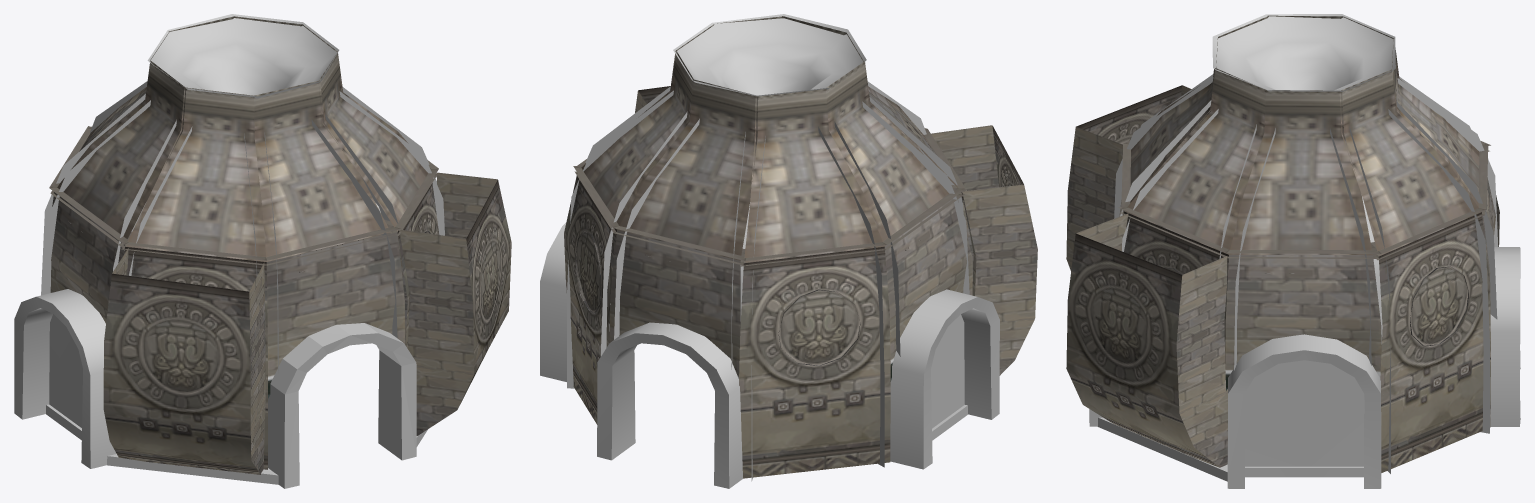
File: DN_tushuguan_tongdao_c001.FBX
3 views of the same model, side by side, from view 1: azimuth 30°, elevation 25°; view 2: azimuth 150°, elevation 25°; view 3: azimuth 270°, elevation 25° (orthographic).
Visible parts, largest first — view 1: DN_tushuguan_tongdao_c1, DN_tushuguan_tongdao_c2, DN_tushuguan_tongdao_c7, DN_tushuguan_tongdao_c8, DN_tushuguan_tongdao_c6, DN_tushuguan_tongdao_c3, DN_tushuguan_tongdao_c5, DN_tushuguan_tongdao_c4; view 2: DN_tushuguan_tongdao_c1, DN_tushuguan_tongdao_c2, DN_tushuguan_tongdao_c7; view 3: DN_tushuguan_tongdao_c1, DN_tushuguan_tongdao_c2, DN_tushuguan_tongdao_c8, DN_tushuguan_tongdao_c7, DN_tushuguan_tongdao_c6, DN_tushuguan_tongdao_c5, DN_tushuguan_tongdao_c4.
Boxes of the visible parts, x1,y1,x2,y2 form: DN_tushuguan_tongdao_c1: (49,16,438,323); DN_tushuguan_tongdao_c2: (14,14,444,468); DN_tushuguan_tongdao_c7: (103,248,265,474); DN_tushuguan_tongdao_c8: (396,172,511,435); DN_tushuguan_tongdao_c6: (124,183,439,469); DN_tushuguan_tongdao_c3: (268,323,416,488); DN_tushuguan_tongdao_c5: (107,429,427,484); DN_tushuguan_tongdao_c4: (254,204,398,373); DN_tushuguan_tongdao_c1: (564,16,972,478); DN_tushuguan_tongdao_c2: (540,14,999,488); DN_tushuguan_tongdao_c7: (931,125,1037,375); DN_tushuguan_tongdao_c1: (1118,15,1499,472); DN_tushuguan_tongdao_c2: (1132,14,1520,488); DN_tushuguan_tongdao_c8: (1066,213,1227,467); DN_tushuguan_tongdao_c7: (1066,85,1191,271); DN_tushuguan_tongdao_c6: (1119,200,1266,390); DN_tushuguan_tongdao_c5: (1098,417,1227,481); DN_tushuguan_tongdao_c4: (1114,124,1147,251).
Bounding box in the file's own units: 2841 × 2269 × 2719.
